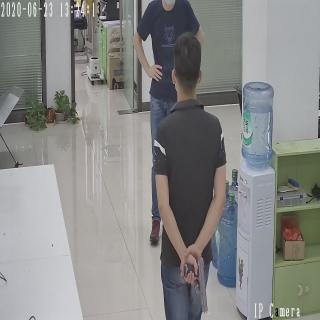gun: (184, 254, 208, 316)
